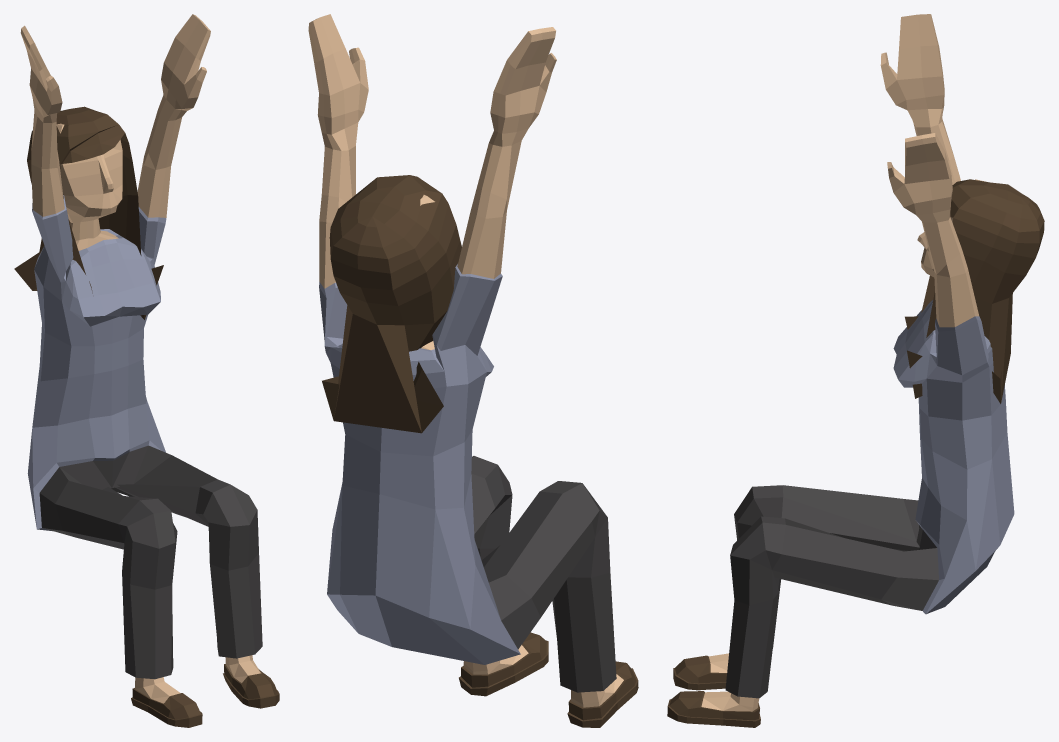
Rendered from Female_Crowd_SittingArmsUp.glb.
The picture shows the model from 3 angles, left to right: view 1: azimuth 30°, elevation 25°; view 2: azimuth 150°, elevation 25°; view 3: azimuth 270°, elevation 25°; orthographic projection. The views are drawn at different scales.
Parts seen in each view (by area): view 1: Female_Crowd_SittingArmsUp; view 2: Female_Crowd_SittingArmsUp; view 3: Female_Crowd_SittingArmsUp.
Part boxes in pixels (<box>): Female_Crowd_SittingArmsUp: <box>14,14,279,727</box>; Female_Crowd_SittingArmsUp: <box>308,14,638,727</box>; Female_Crowd_SittingArmsUp: <box>667,14,1044,727</box>.
Size of the model in its own units: 0.4894 by 1.6 by 0.845.
